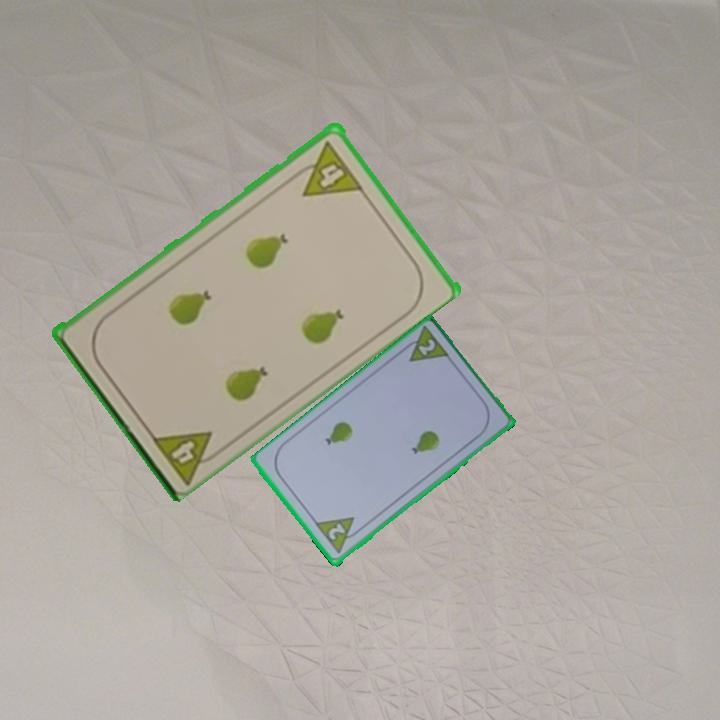2p: (312, 513, 365, 558), (397, 324, 452, 365)
4p: (288, 136, 365, 200), (147, 426, 228, 486)
